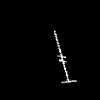treble_crochet: (54, 31, 75, 82)
